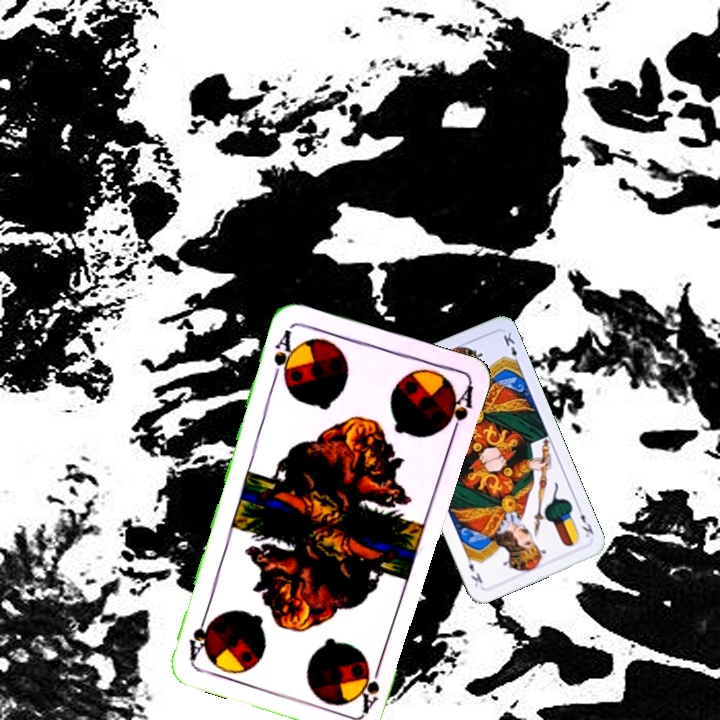EK: (573, 502, 596, 540)
SA: (269, 325, 299, 385), (354, 657, 384, 716)
